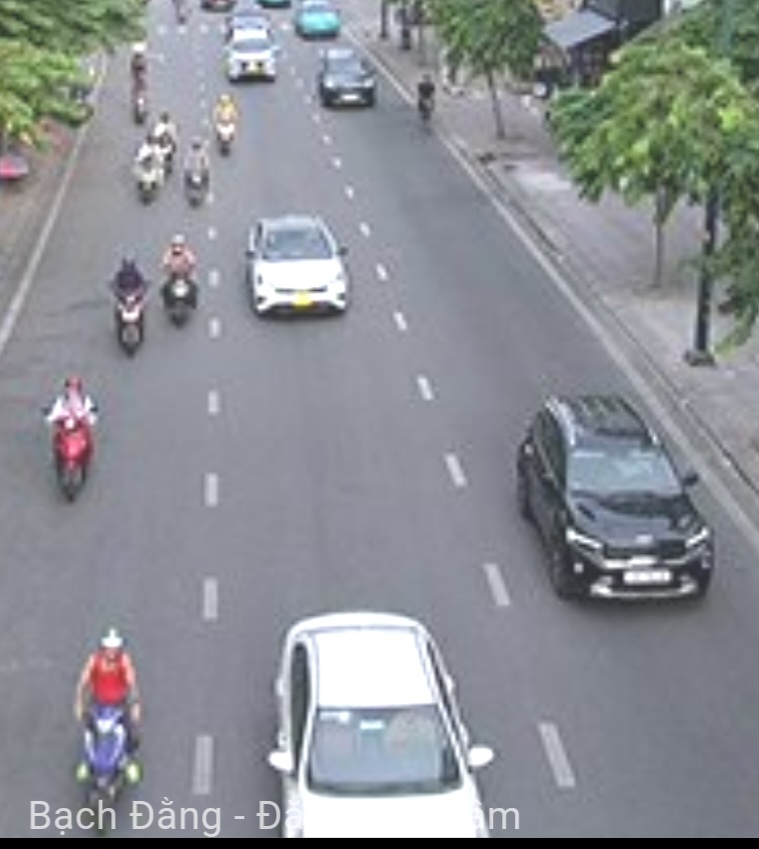car: (272, 608, 494, 849), (517, 392, 714, 613), (243, 214, 349, 321), (317, 49, 381, 111), (226, 27, 277, 83)
